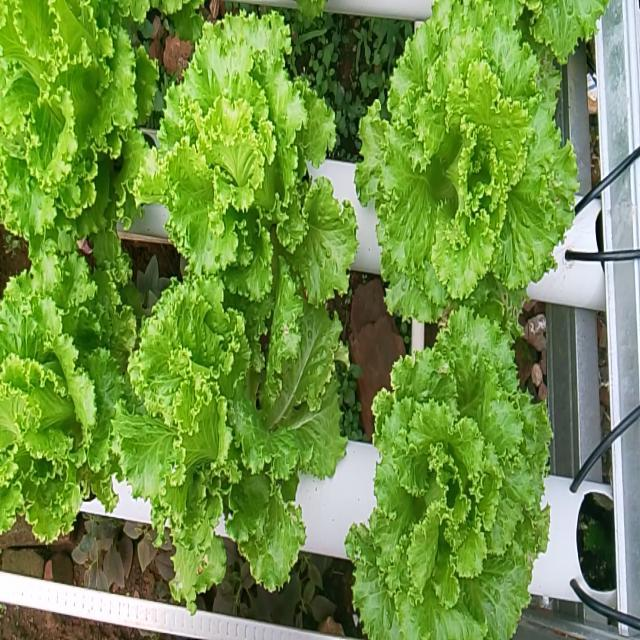Mature: (356, 0, 606, 331), (115, 271, 348, 603), (138, 11, 359, 340), (347, 308, 553, 639), (0, 0, 157, 257), (0, 255, 132, 541)
